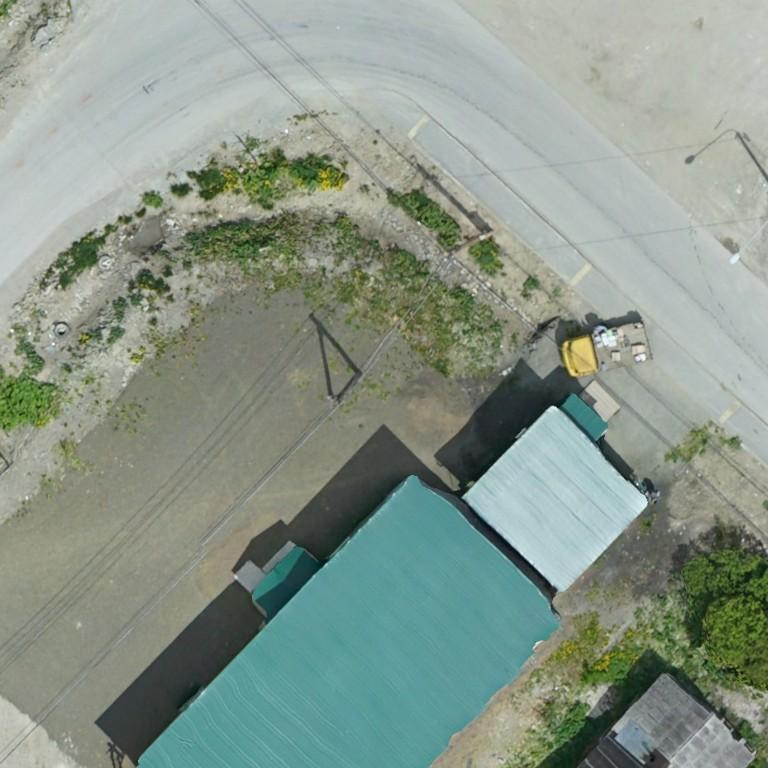hogweed: (0, 377, 50, 428), (287, 159, 322, 186)
